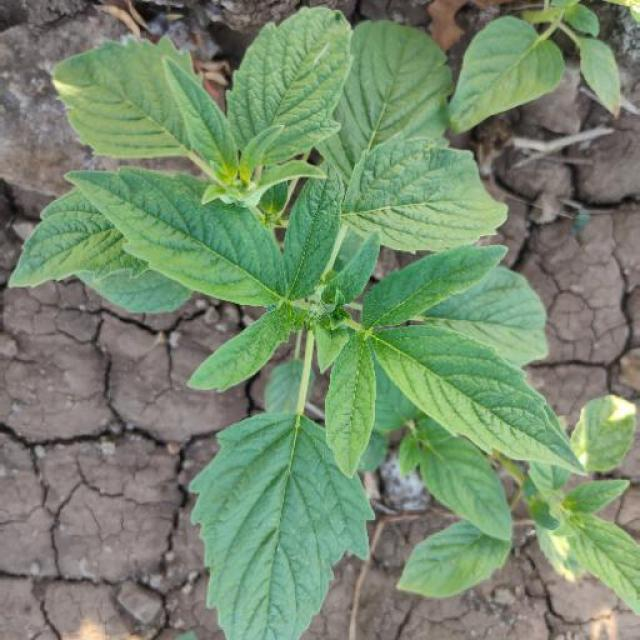crop: (41, 31, 584, 599)
